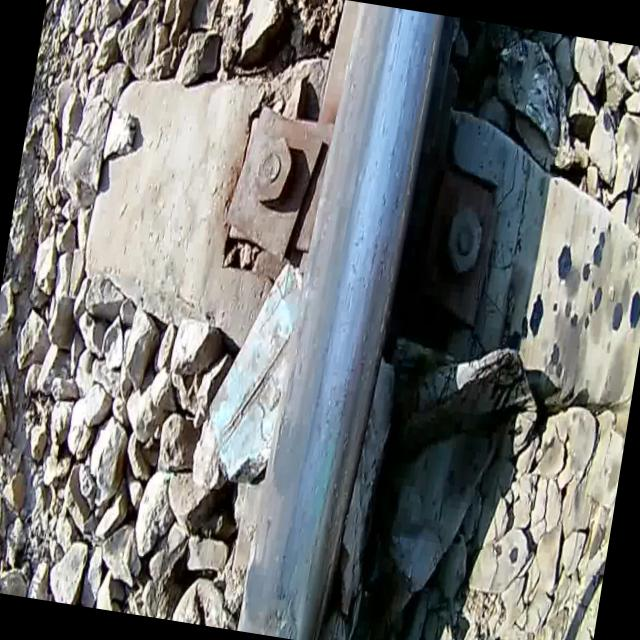Squats: (226, 570, 337, 640)
